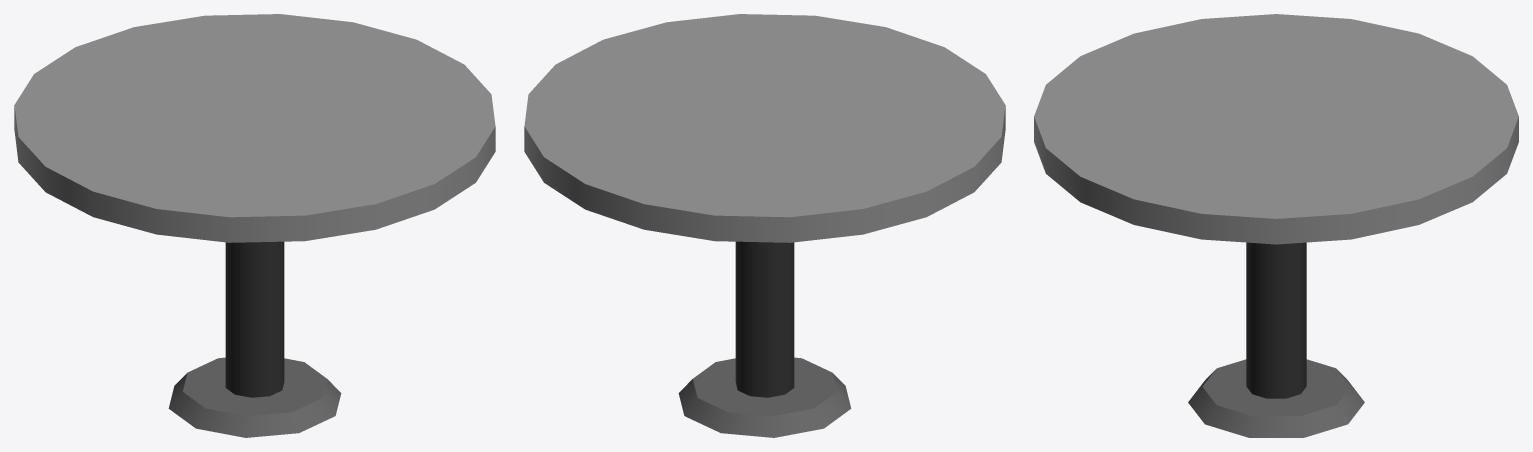
Rendered from coffe_table_02.fbx.
3 renders of one model, left to right at view 1: azimuth 30°, elevation 25°; view 2: azimuth 150°, elevation 25°; view 3: azimuth 270°, elevation 25°, orthographic.
Parts seen in each view (by area): view 1: coffe_table_02; view 2: coffe_table_02; view 3: coffe_table_02.
Boxes of the visible parts, x1,y1,x2,y2 form: coffe_table_02: (14, 14, 495, 437); coffe_table_02: (524, 14, 1005, 437); coffe_table_02: (1034, 14, 1518, 437).
Bounding box in the file's own units: 1.2 × 0.7808 × 1.2.
